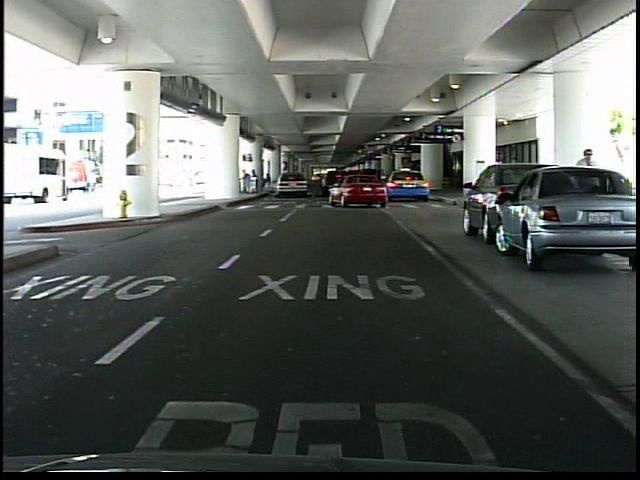person: (573, 147, 599, 236)
